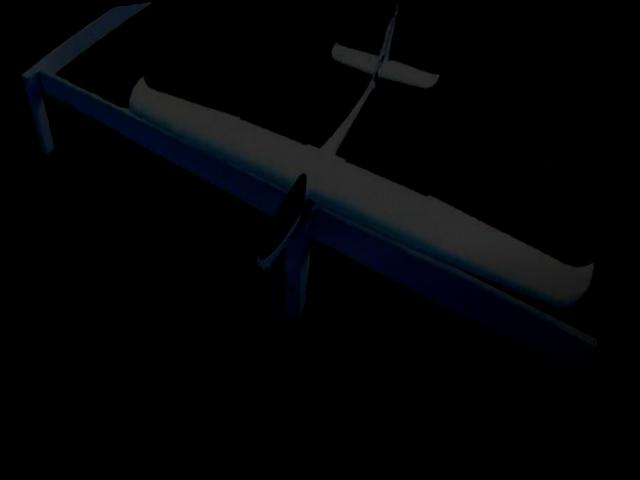iha: (98, 0, 630, 374)
